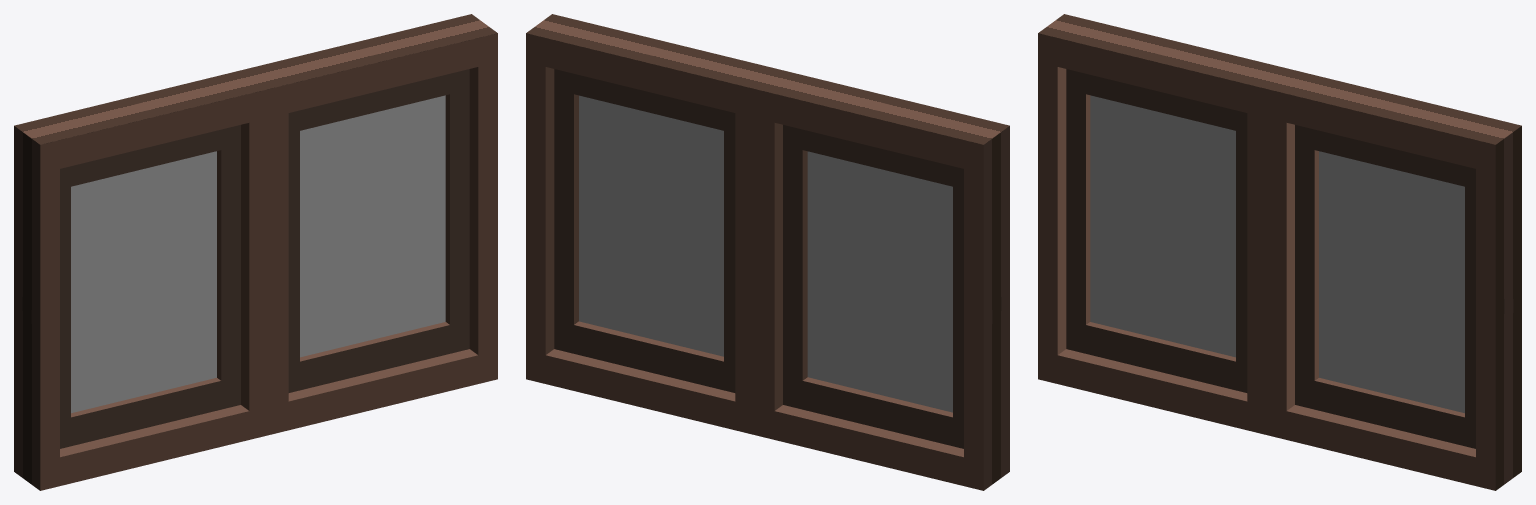
The model's file is window_438x01.obj.
The picture shows the model from 3 angles, left to right: view 1: azimuth 30°, elevation 25°; view 2: azimuth 150°, elevation 25°; view 3: azimuth 330°, elevation 25°; orthographic projection.
Visible parts, largest first — view 1: Frame.001; view 2: Frame.001; view 3: Frame.001.
Part boxes in pixels (x1,y1,x2,y2): Frame.001: [14, 14, 497, 490]; Frame.001: [526, 14, 1009, 490]; Frame.001: [1038, 14, 1521, 490].
Size of the model in its own units: 3.88 by 2.8 by 0.385.
